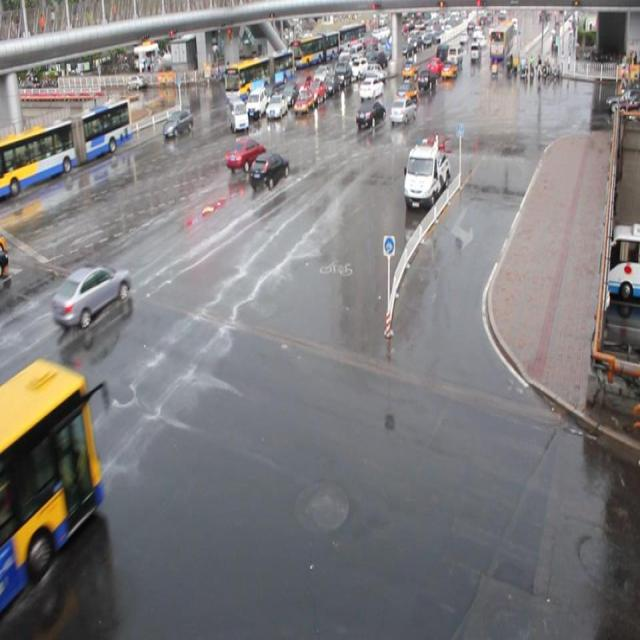bus: (402, 140, 450, 208)
car: (51, 264, 131, 328), (248, 150, 289, 190), (225, 138, 266, 170), (355, 99, 385, 127), (163, 109, 194, 136), (389, 96, 416, 122), (394, 80, 418, 104), (359, 76, 383, 99), (292, 90, 313, 116), (262, 79, 284, 102), (266, 94, 287, 118), (304, 79, 324, 104), (279, 81, 299, 105), (291, 74, 311, 95)
truck: (244, 87, 267, 119), (228, 96, 248, 132)
van: (1, 362, 101, 612), (1, 98, 132, 196), (224, 48, 294, 100)
